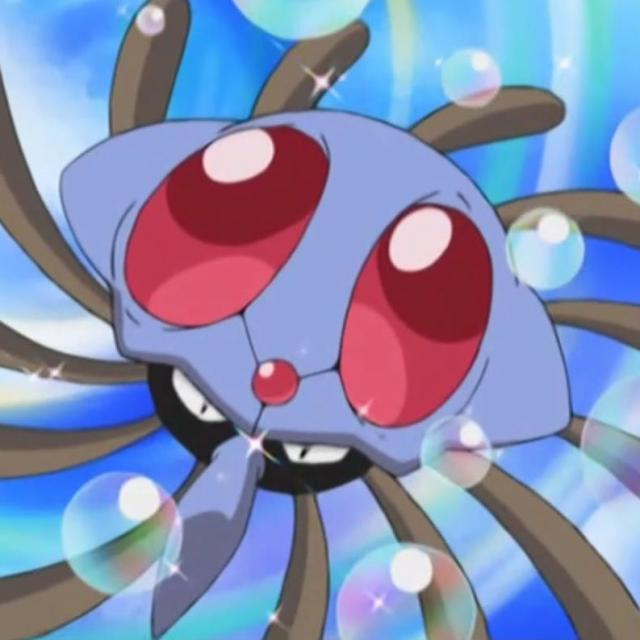Tentacruel: (70, 110, 566, 546)
